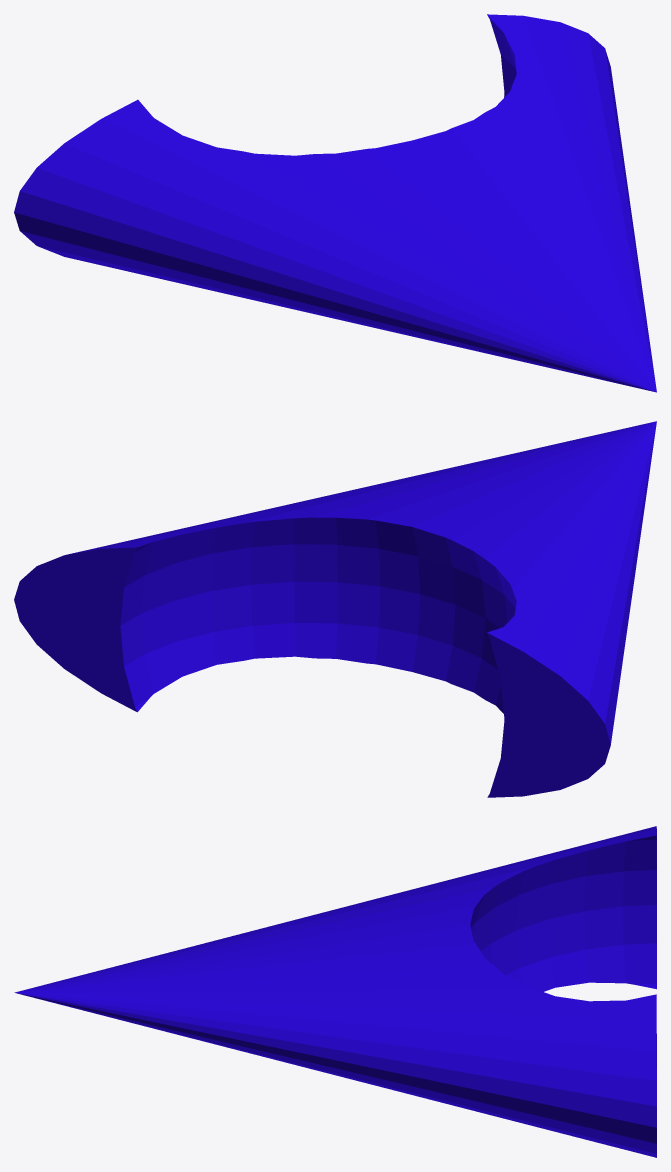
Rendered from SpaceShipv1.fbx.
3 views of the same model, one above another, from view 1: azimuth 30°, elevation 25°; view 2: azimuth 150°, elevation 25°; view 3: azimuth 270°, elevation 25° (orthographic). The views are drawn at different scales.
Parts seen in each view (by area): view 1: Cone; view 2: Cone; view 3: Cone.
Part boxes in pixels (left/top/right/bottom): Cone: left=14, top=14, right=656, bottom=392; Cone: left=14, top=421, right=656, bottom=797; Cone: left=14, top=826, right=656, bottom=1157.
Size of the model in its own units: 200 by 52.87 by 200.
